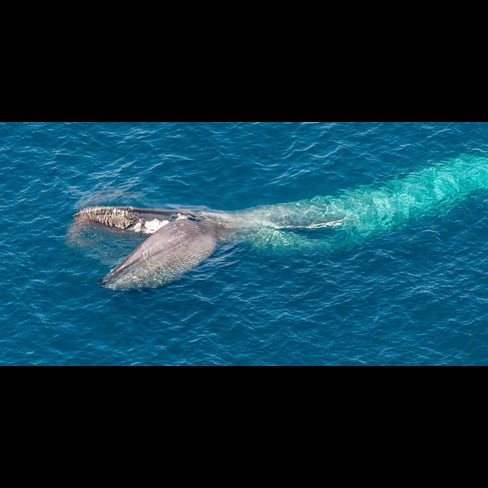bluewhale: (70, 151, 488, 294)
